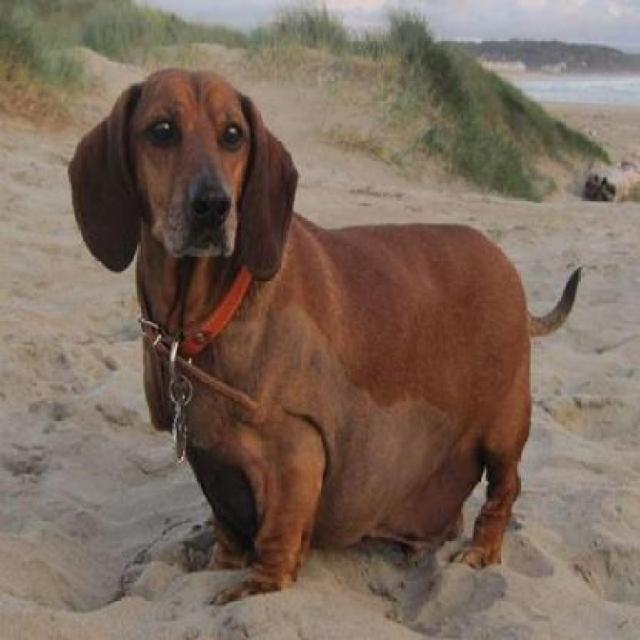Dog: (68, 68, 582, 604)
